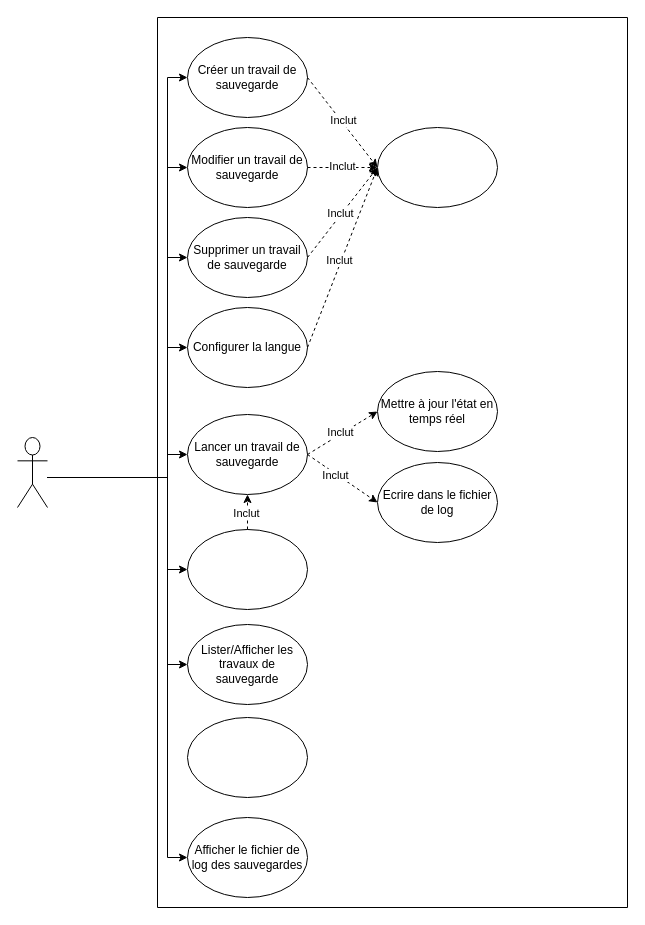
Image size: 645x925. Some labels were removed from this diagram. The centre of each missing label's shape, as x and y in pixels:
Afficher l'état d'un travail de sauvegarde: the point at 247,757
Lancer plusieurs travaux séquentiels: the point at 247,569
Sauvegarder/Mettre à jour le fichier configuration: the point at 437,167
User: the point at 32,472
